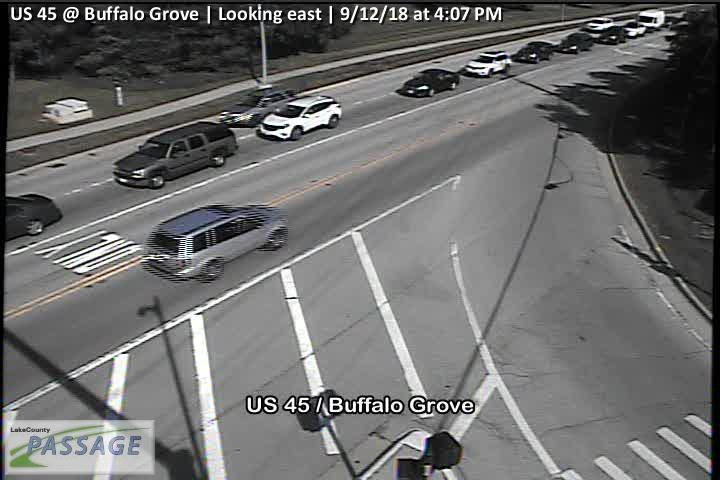SUV: (137, 202, 291, 282), (109, 121, 239, 190), (257, 92, 344, 142), (218, 87, 300, 130), (463, 48, 512, 78), (556, 32, 596, 54), (583, 16, 617, 32)
Sedan: (1, 191, 63, 236), (397, 67, 461, 99), (514, 40, 557, 65), (599, 25, 627, 49), (624, 21, 648, 39)
Truck: (637, 8, 666, 30)
